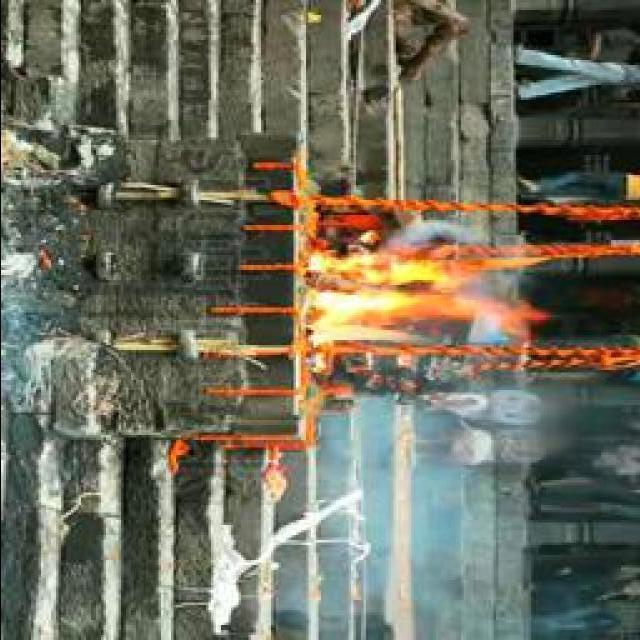Fire: (299, 245, 519, 353)
